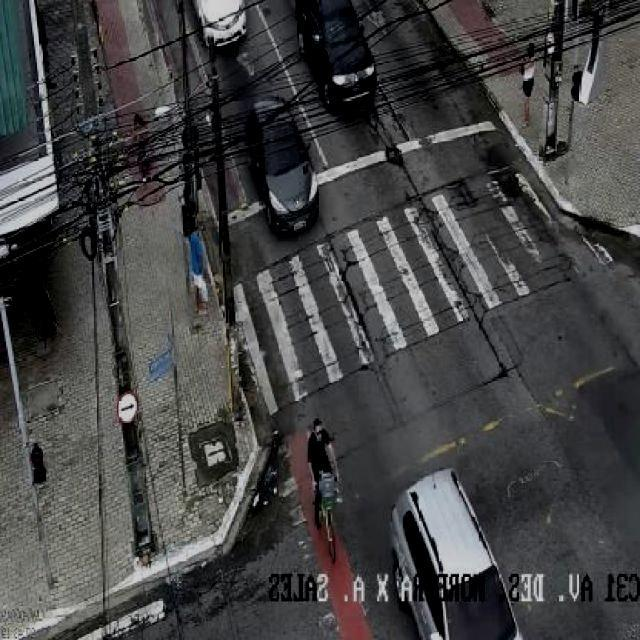Car: (366, 466, 532, 640), (232, 95, 338, 227), (280, 0, 396, 120), (179, 0, 275, 50)
Cycle: (289, 399, 363, 559)
